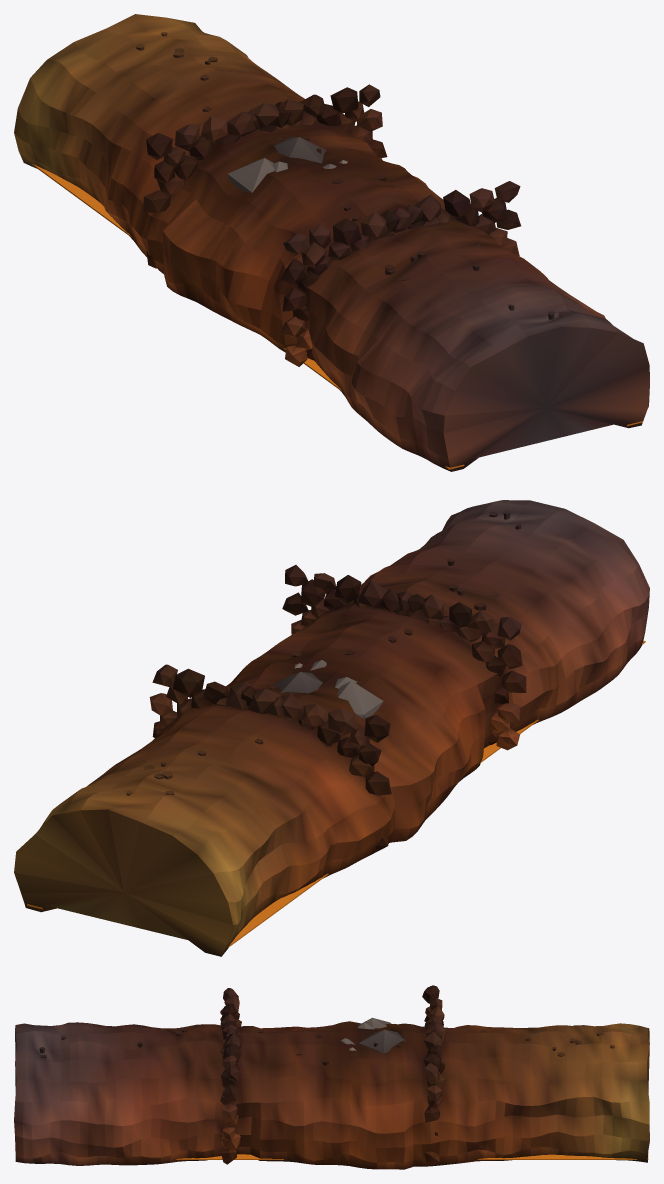
Rendered from caverne.glb.
3 views of the same model, one above another, from view 1: azimuth 30°, elevation 25°; view 2: azimuth 150°, elevation 25°; view 3: azimuth 270°, elevation 25° (orthographic). The views are drawn at different scales.
Parts seen in each view (by area): view 1: C_grotte, C_murs, C_entree, C_lave; view 2: C_grotte, C_murs, C_entree, C_lave; view 3: C_grotte, C_murs, C_entree, C_lave.
Part boxes in pixels (bbox=[...]): C_grotte: bbox=[14, 14, 649, 471]; C_murs: bbox=[143, 84, 520, 366]; C_entree: bbox=[227, 137, 347, 192]; C_lave: bbox=[31, 163, 642, 469]; C_grotte: bbox=[14, 500, 649, 956]; C_murs: bbox=[149, 565, 526, 851]; C_entree: bbox=[274, 660, 383, 718]; C_lave: bbox=[27, 640, 645, 947]; C_grotte: bbox=[14, 1021, 649, 1169]; C_murs: bbox=[220, 985, 445, 1165]; C_entree: bbox=[341, 1017, 405, 1053]; C_lave: bbox=[176, 1153, 648, 1159].
Bounding box in the file's own units: 19.37 × 10.8 × 56.31.
